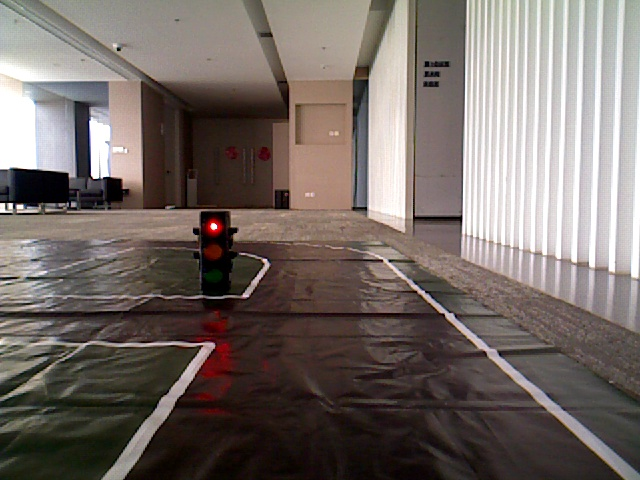red: (199, 214, 228, 287)
